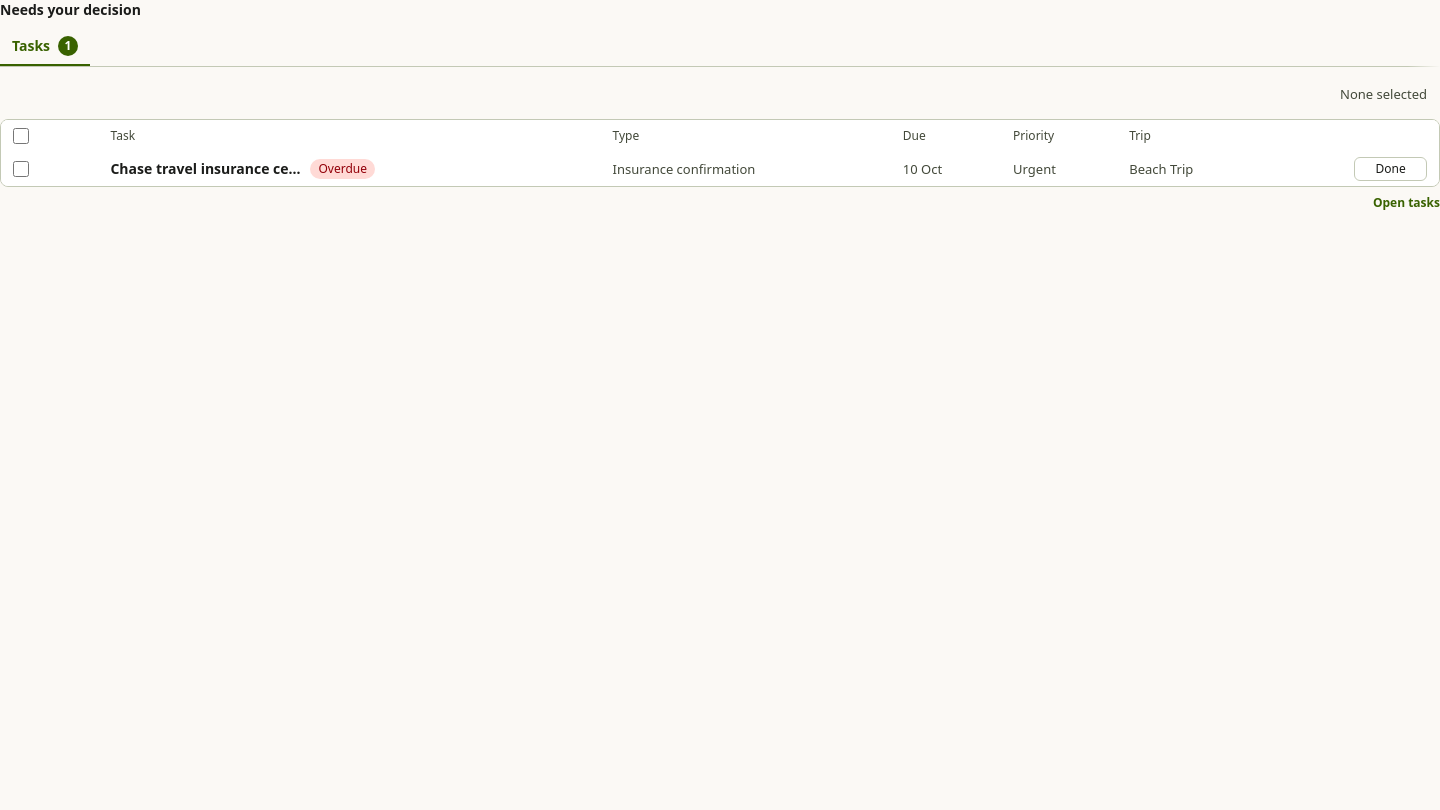
Test case: Tasks due group - truthful changed eligibility bulk outcome › retains an open task changed to LeaveCoverage without claiming it was closed
This screenshot has width=1440, height=810.
Click the checkbox named "Select all shown tasks due" at (21, 136), box x1=13 y1=128 x2=29 y2=144
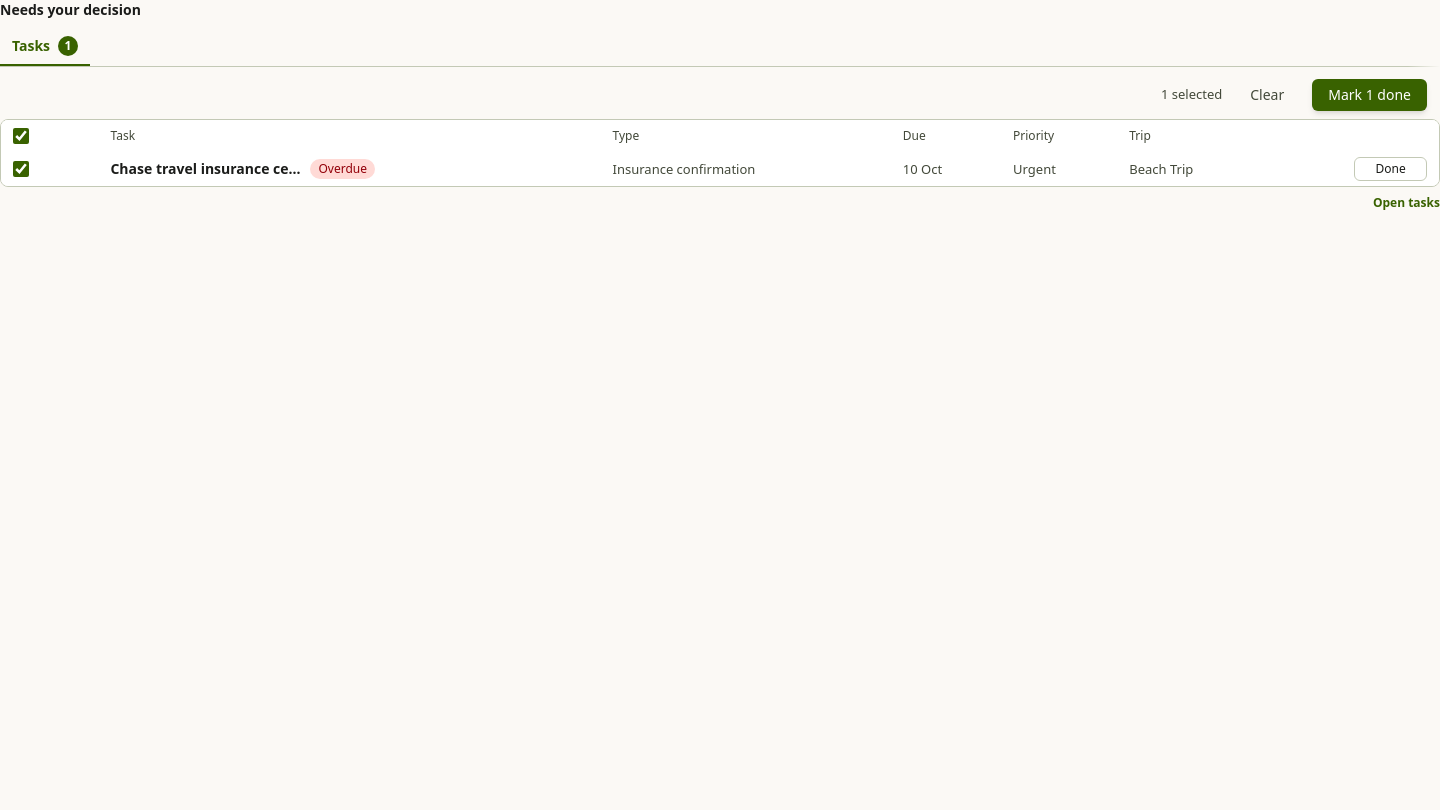
Click the button with aria-label "Mark 1 selected task done" at (1370, 95), box x1=1312 y1=79 x2=1427 y2=111
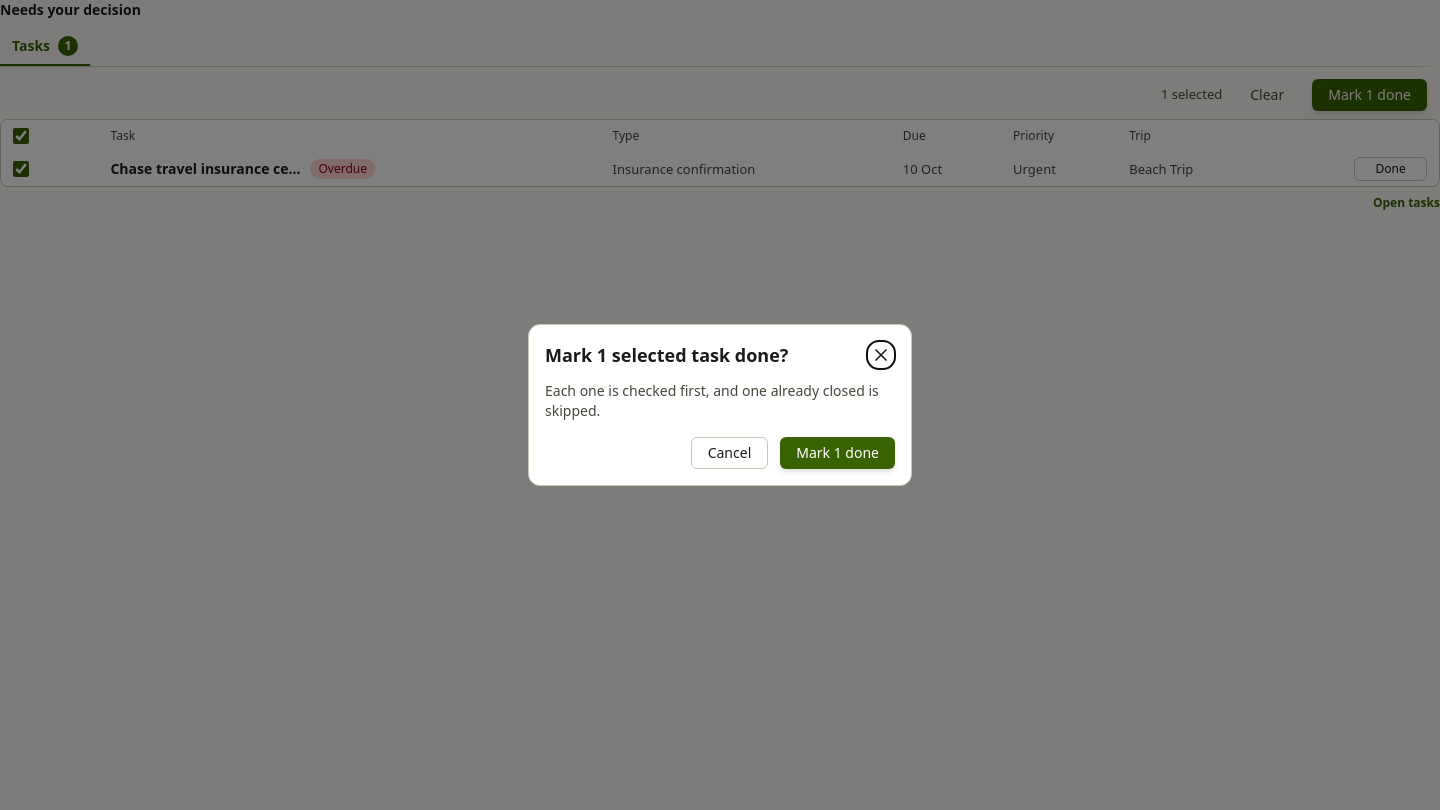
Click the button "Mark 1 done" at (838, 453), box x1=780 y1=437 x2=895 y2=469
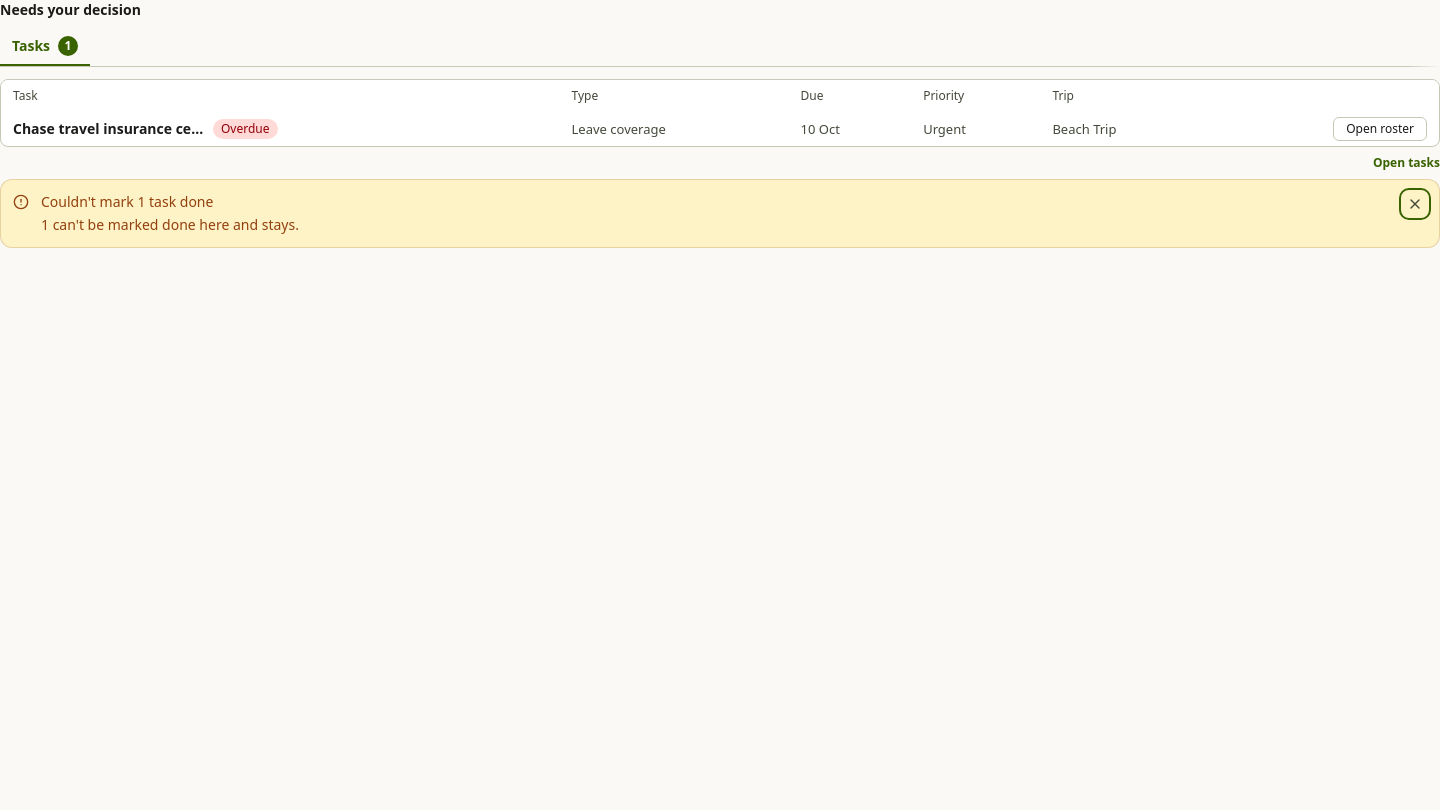
Result: the text "1 can't be marked done here and stays." is shown at x1=41 y1=215 x2=299 y2=234
Result: the text "already closed" is gone
